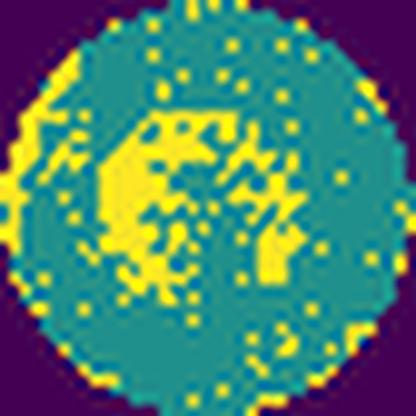Donut: (94, 108, 312, 317)
